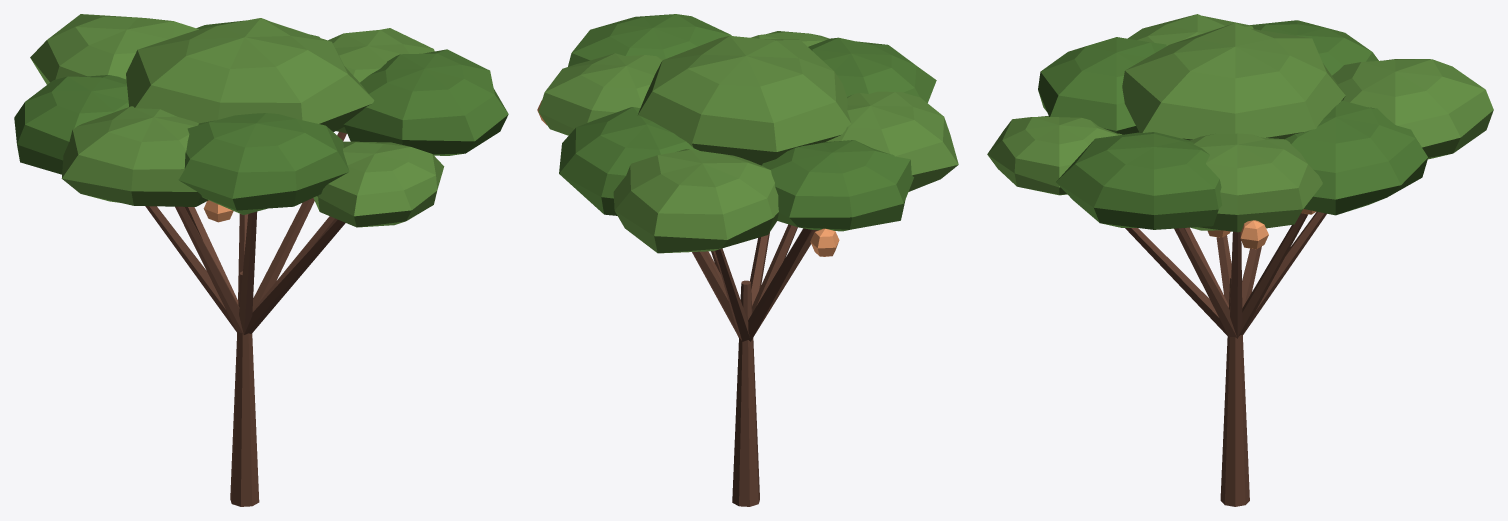
The model's file is tree_peach_small.glb.
The picture shows the model from 3 angles, left to right: view 1: azimuth 30°, elevation 25°; view 2: azimuth 150°, elevation 25°; view 3: azimuth 270°, elevation 25°; orthographic projection. The views are drawn at different scales.
Visible parts, largest first — view 1: tree_peach_small; view 2: tree_peach_small; view 3: tree_peach_small.
Boxes of the visible parts, x1,y1,x2,y2 form: tree_peach_small: [14, 14, 508, 506]; tree_peach_small: [537, 14, 958, 506]; tree_peach_small: [987, 14, 1493, 506].
Bounding box in the file's own units: 3.96 × 4.29 × 4.34.
